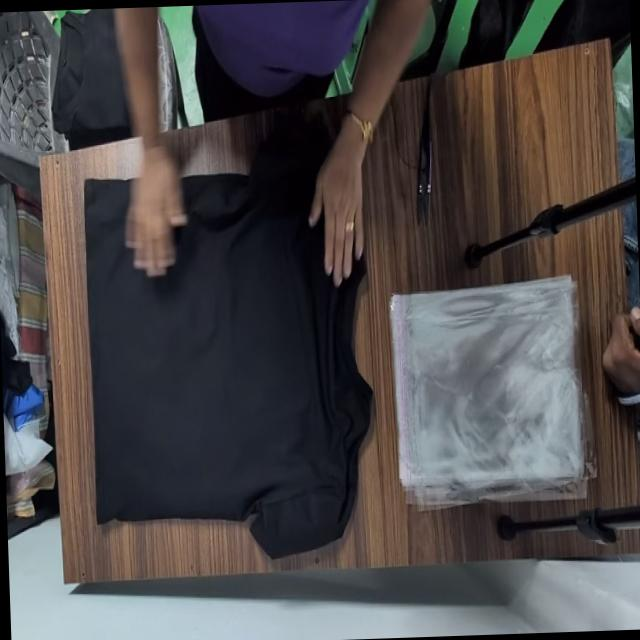new-garment: (84, 131, 371, 557)
